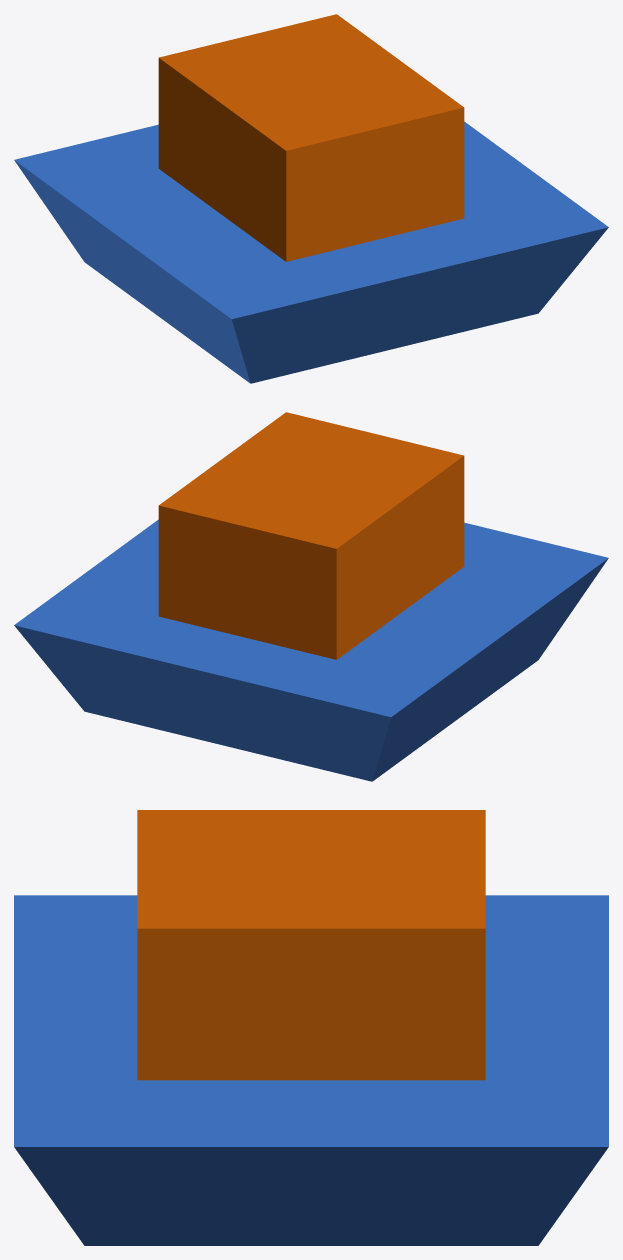
Rendered from payload_visual.dae.
3 views of the same model, one above another, from view 1: azimuth 30°, elevation 25°; view 2: azimuth 150°, elevation 25°; view 3: azimuth 270°, elevation 25° (orthographic). The views are drawn at different scales.
Visible parts, largest first — view 1: payload; view 2: payload; view 3: payload.
Part boxes in pixels (left/top/right/bottom): payload: left=14, top=14, right=608, bottom=383; payload: left=14, top=412, right=608, bottom=781; payload: left=14, top=810, right=608, bottom=1245.
Bounding box in the file's own units: 2 × 2 × 1.04.
